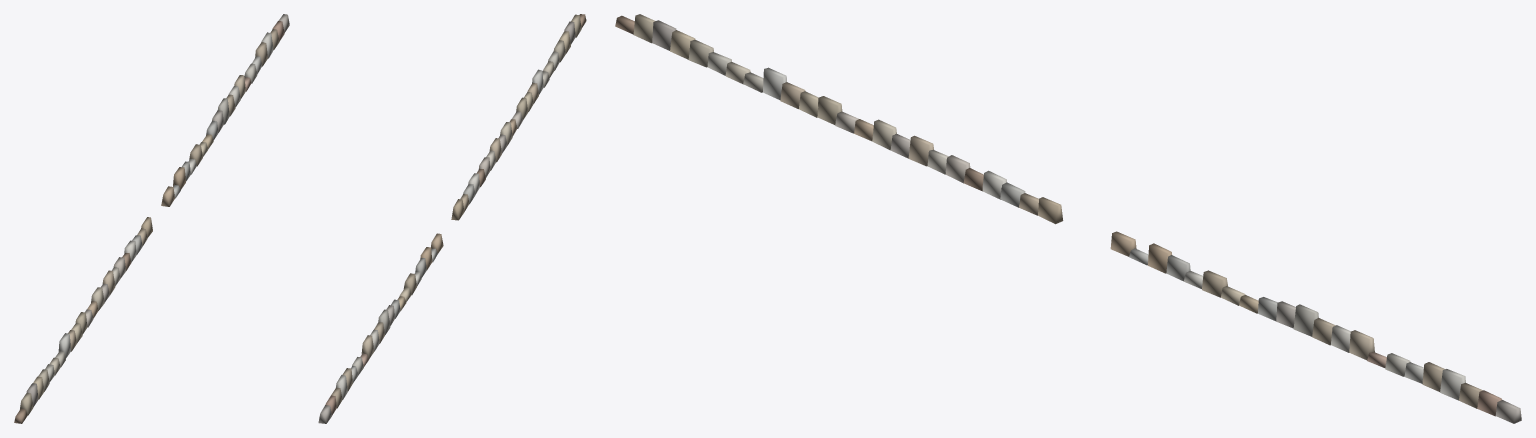
File: farm_9_5_far.glb
3 renders of one model, left to right at view 1: azimuth 30°, elevation 25°; view 2: azimuth 210°, elevation 25°; view 3: azimuth 270°, elevation 25°, orthographic. The views are drawn at different scales.
Visible parts, largest first — view 1: geometry_0; view 2: geometry_0; view 3: geometry_0.
Boxes of the visible parts, x1,y1,x2,y2 form: geometry_0: (14,14,289,423); geometry_0: (318,14,586,423); geometry_0: (615,14,1521,423).
Bounding box in the file's own units: 55.47 × 2.05 × 54.46.
